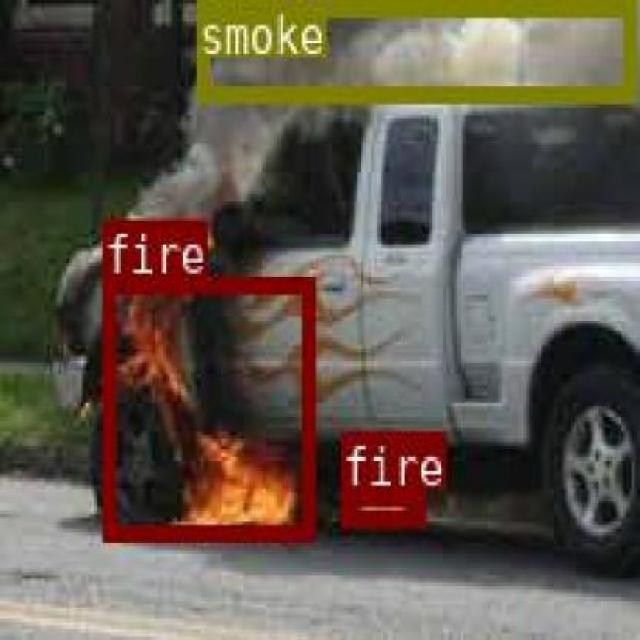Fire: (100, 274, 314, 536), (340, 488, 423, 524)
Smoke: (193, 0, 635, 97)
